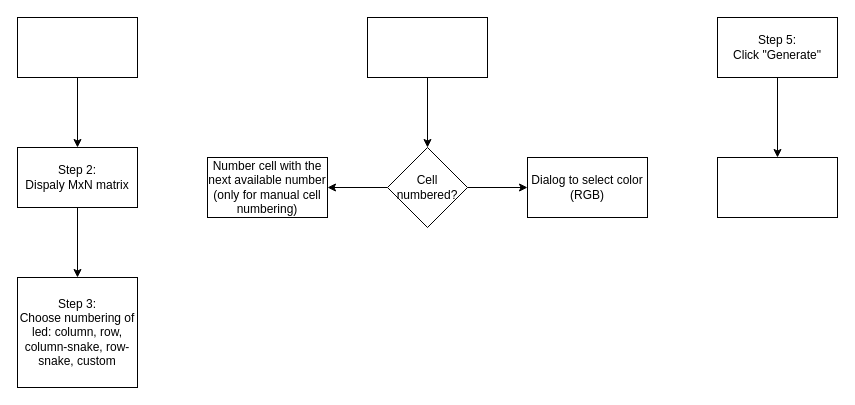
Image size: 855x405. Some labels were removed from this diagram. Each missing label, with the centre of its shape:
"Modal opens with header content" goes at point 777,187.
"Step 1: Select M and N" goes at point 77,47.
"Step 4: On matrix cell click" goes at point 427,47.
